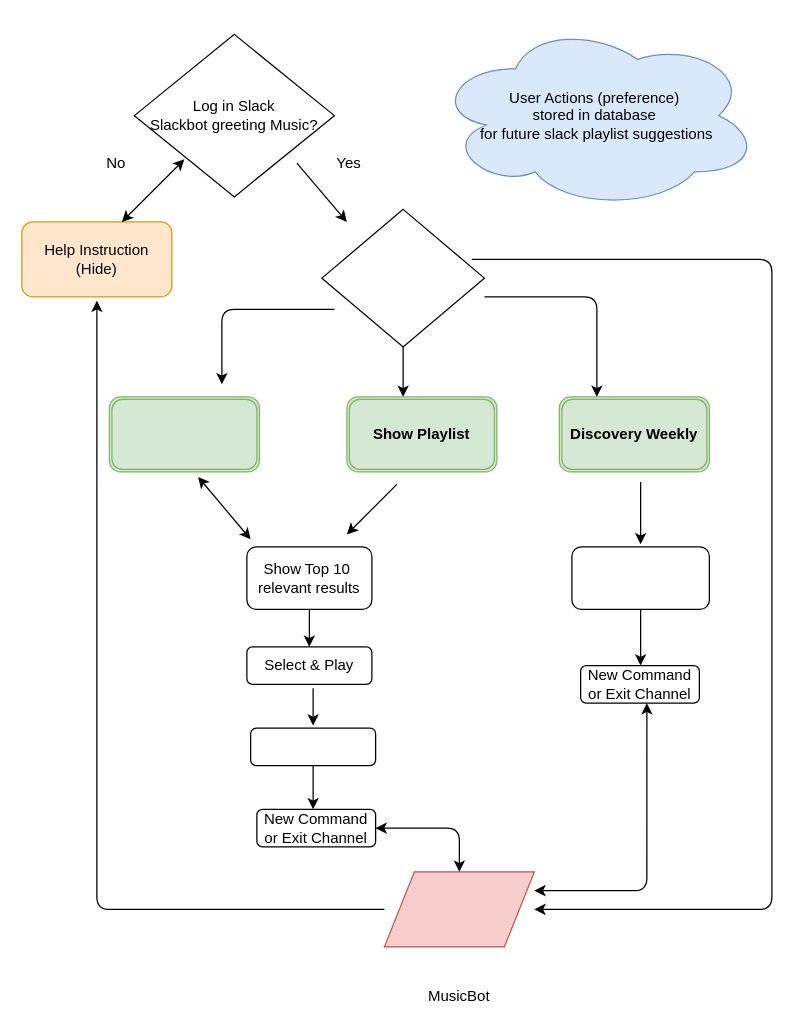
The diagram is 804 pixels wide and 1031 high, and some of its shapes have lost their labels. The centre of each missing label's shape, as x and y in pixels:
"Channel #Spotify" goes at (x=402, y=277).
"Control (Volume/Playing)" goes at (x=312, y=746).
"Error User/Server" goes at (x=458, y=909).
"Search (song/artist/this is)" goes at (x=183, y=434).
"Start Play with info & Control" goes at (x=640, y=577).
